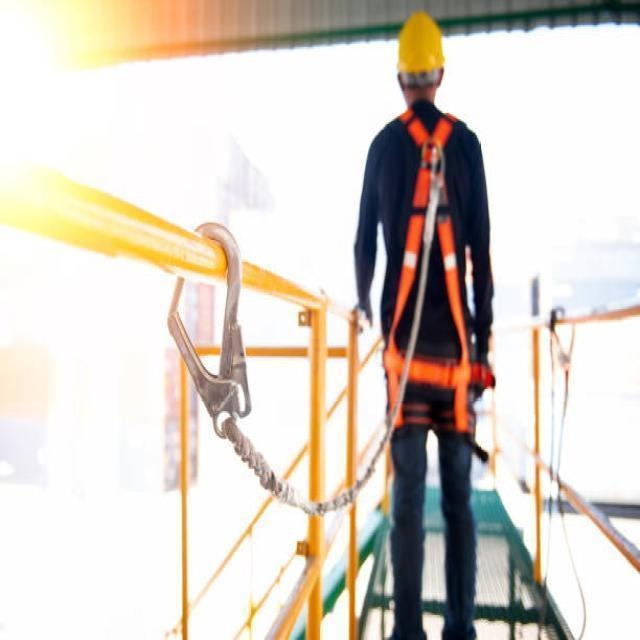Arnes_seguridad: (381, 110, 479, 428)
